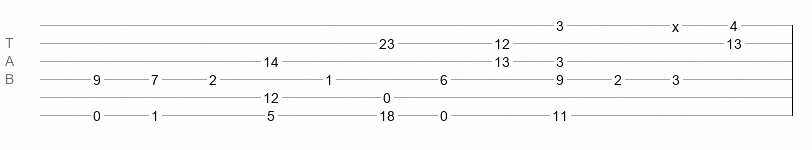0: (93, 108, 101, 118), (383, 90, 391, 100), (440, 108, 448, 118)
1: (151, 108, 159, 118), (325, 72, 333, 82)
11: (552, 108, 568, 118)
12: (263, 90, 279, 100), (494, 36, 510, 46)
13: (494, 54, 510, 64), (726, 36, 742, 46)
14: (263, 54, 279, 64)
18: (379, 108, 395, 118)
2: (209, 72, 217, 82), (614, 72, 622, 82)
23: (379, 36, 395, 46)
3: (556, 18, 564, 28), (556, 54, 564, 64), (672, 72, 680, 82)
4: (730, 18, 738, 28)
5: (267, 108, 275, 118)
6: (440, 72, 448, 82)
7: (151, 72, 159, 82)
9: (93, 72, 101, 82), (556, 72, 564, 82)
x: (672, 19, 679, 27)
